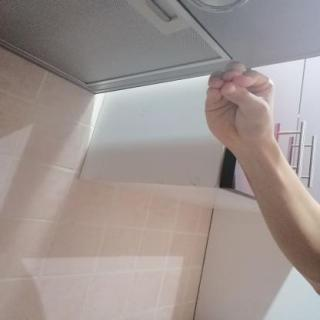HA: (192, 52, 286, 154)
